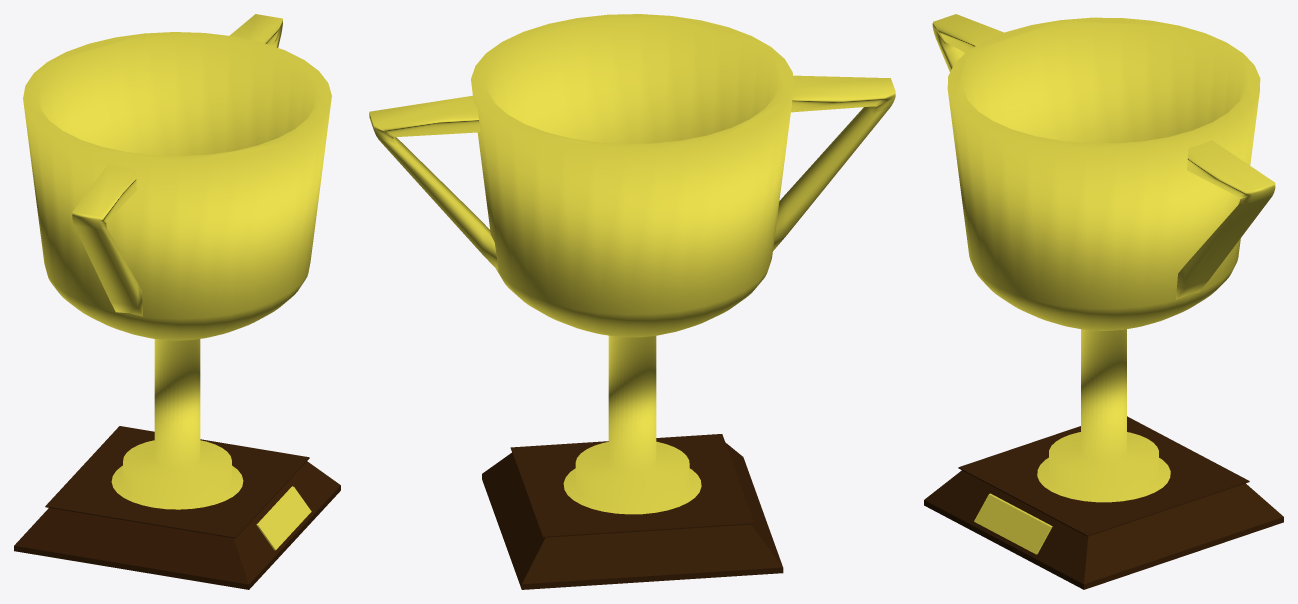
The model's file is trophy.fbx.
3 views of the same model, side by side, from view 1: azimuth 30°, elevation 25°; view 2: azimuth 150°, elevation 25°; view 3: azimuth 270°, elevation 25° (orthographic). The views are drawn at different scales.
Visible parts, largest first — view 1: Cylinder.002; view 2: Cylinder.002; view 3: Cylinder.002.
Part boxes in pixels (<box>): Cylinder.002: <box>14,14,340,589</box>; Cylinder.002: <box>369,14,895,589</box>; Cylinder.002: <box>924,14,1283,589</box>.
Size of the model in its own units: 96.48 by 110 by 83.08.
